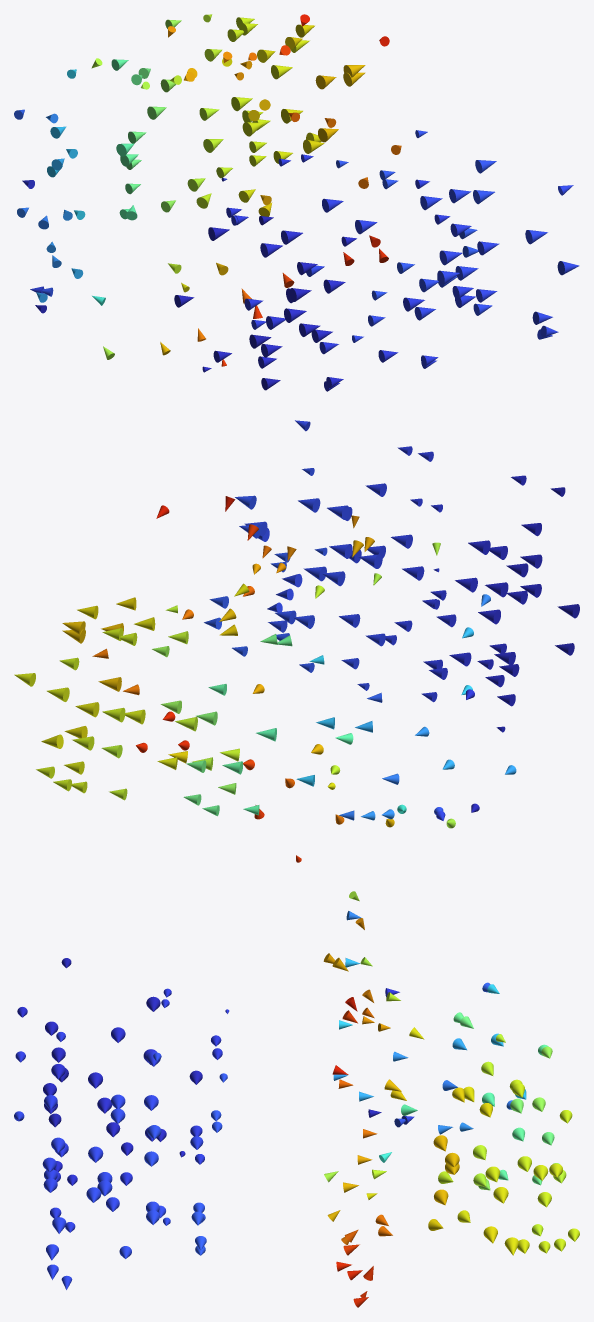
The model's file is LineasCorrienteN2-H2O_mh2-1.38_V-0.9.glb.
The picture shows the model from 3 angles, top to bottom: view 1: azimuth 30°, elevation 25°; view 2: azimuth 150°, elevation 25°; view 3: azimuth 270°, elevation 25°; orthographic projection.
Bounding box in the file's own units: 0.000986 × 0.000828 × 0.0012.
2 materials, 2 textured.
